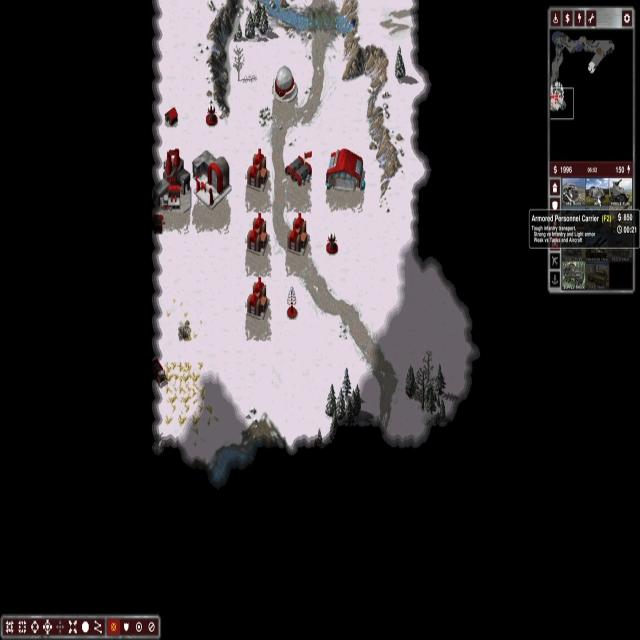bingying: (284, 153, 312, 186)
dianchang: (247, 149, 269, 191), (247, 278, 269, 318), (247, 212, 268, 253), (288, 212, 308, 255)
jidi: (192, 151, 231, 207)
jungongchang: (326, 148, 365, 190)
kuangchang: (158, 148, 190, 212)
leida: (273, 66, 297, 101)
